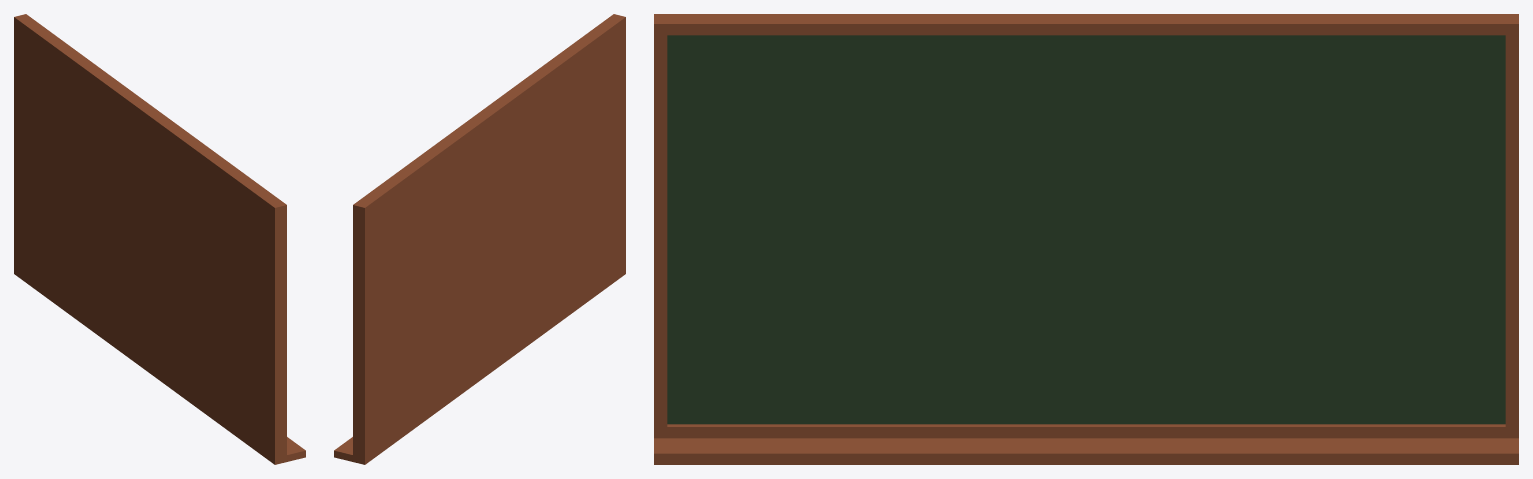
Rendered from blackboard.glb.
3 views of the same model, side by side, from view 1: azimuth 30°, elevation 25°; view 2: azimuth 150°, elevation 25°; view 3: azimuth 270°, elevation 25° (orthographic). The views are drawn at different scales.
Parts seen in each view (by area): view 1: Plane.005; view 2: Plane.005; view 3: Plane.005.
Boxes of the visible parts, left/top/right/bottom form: Plane.005: left=14, top=14, right=305, bottom=464; Plane.005: left=334, top=14, right=625, bottom=464; Plane.005: left=654, top=14, right=1518, bottom=464.
Size of the model in its own units: 0.0979 by 0.7753 by 1.43.
